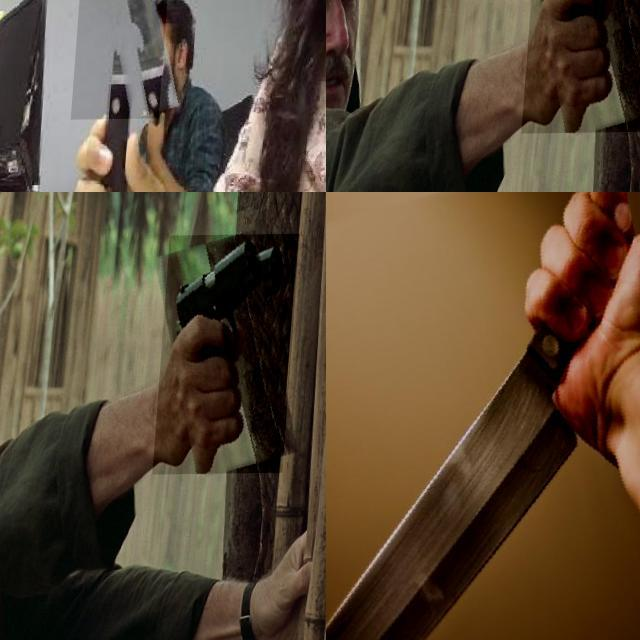-: (326, 192, 640, 640), (77, 0, 183, 157)
gun-knife-thesis - v11 Yolov5 augmented: (160, 235, 304, 476), (528, 0, 640, 134)
